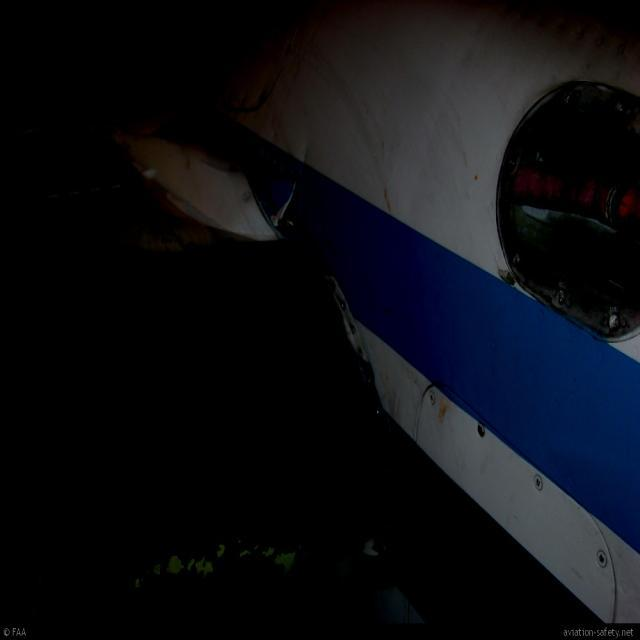crack: (274, 178, 304, 228)
